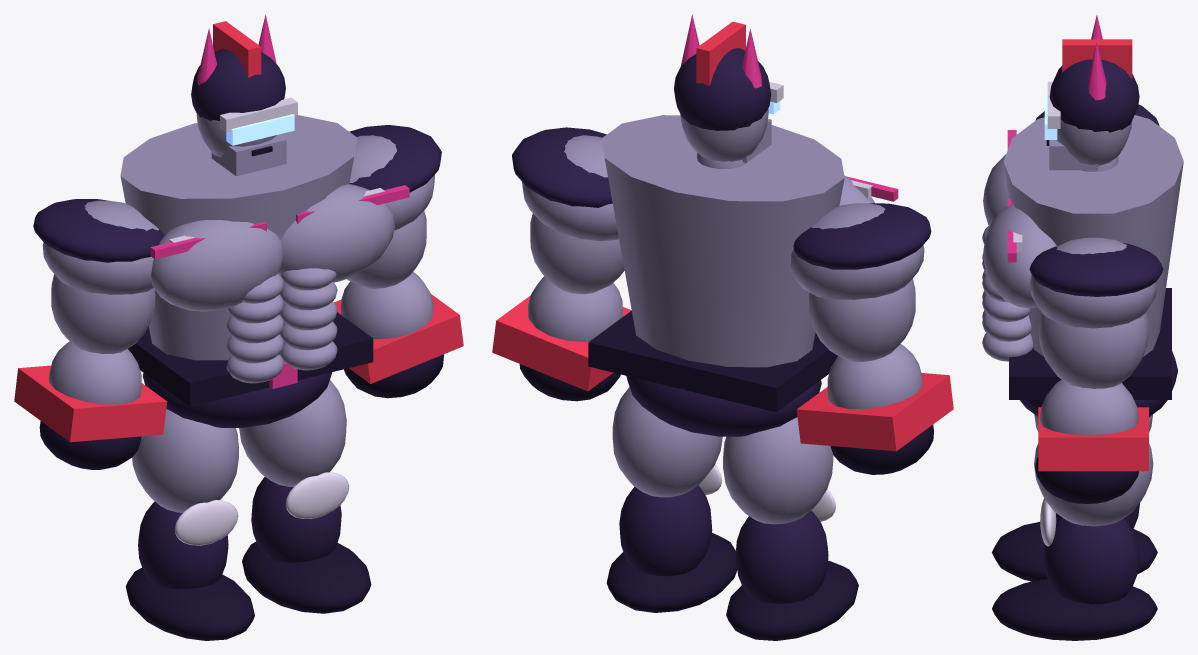
File: legendary.glb
3 renders of one model, left to right at view 1: azimuth 30°, elevation 25°; view 2: azimuth 150°, elevation 25°; view 3: azimuth 270°, elevation 25°, orthographic. The views are drawn at different scales.
Parts seen in each view (by area): view 1: Torso, Pectoral_L, Thigh_L, Pectoral_R, Thigh_R, Cosmetic_Bracer_L, Belt, Boot_R, Boot_L, Bicep_L, ShoulderPlate_L, Shin_L (+31 smaller); view 2: Torso, Belt, Thigh_L, Thigh_R, Cosmetic_Bracer_L, Shin_L, Shin_R, Bicep_L, ShoulderPlate_L, Pelvis, Helmet, Boot_R (+13 smaller); view 3: Torso, Shin_R, Boot_R, Bicep_R, ShoulderPlate_R, Cosmetic_Bracer_R, Helmet, Deltoid_R, Belt, Forearm_R, Pectoral_R, Boot_L (+14 smaller).
Part boxes in pixels (box(x1,y1,x2,y2)): Torso: box(120, 115, 357, 360); Pectoral_L: box(151, 220, 282, 311); Thigh_L: box(132, 409, 238, 512); Pectoral_R: box(279, 184, 394, 282); Thigh_R: box(239, 380, 346, 486); Cosmetic_Bracer_L: box(14, 365, 167, 442); Belt: box(128, 312, 373, 406); Boot_R: box(242, 541, 371, 613); Boot_L: box(125, 568, 254, 640); Bicep_L: box(51, 274, 155, 353); ShoulderPlate_L: box(33, 199, 164, 262); Shin_L: box(138, 501, 228, 589); Torso: box(601, 115, 844, 367); Belt: box(588, 311, 837, 412); Thigh_L: box(723, 417, 833, 524); Thigh_R: box(612, 387, 722, 497); Cosmetic_Bracer_L: box(796, 373, 953, 451); Shin_L: box(735, 511, 828, 603); Shin_R: box(619, 485, 712, 575); Bicep_L: box(808, 278, 915, 361); ShoulderPlate_L: box(793, 203, 931, 269); Pelvis: box(626, 376, 821, 436); Helmet: box(674, 48, 771, 130); Boot_R: box(606, 532, 737, 612); Torso: box(1003, 115, 1183, 356); Shin_R: box(1044, 517, 1139, 604); Boot_R: box(992, 578, 1157, 640); Bicep_R: box(1038, 312, 1148, 388); ShoulderPlate_R: box(1029, 243, 1163, 296); Cosmetic_Bracer_R: box(1038, 407, 1148, 471); Helmet: box(1049, 59, 1139, 132); Deltoid_R: box(1029, 237, 1157, 328); Belt: box(1009, 288, 1171, 399); Forearm_R: box(1039, 379, 1138, 435); Pectoral_R: box(983, 204, 1056, 308); Boot_L: box(992, 522, 1157, 581).
Size of the model in its own units: 2.51 by 3.54 by 1.12.
